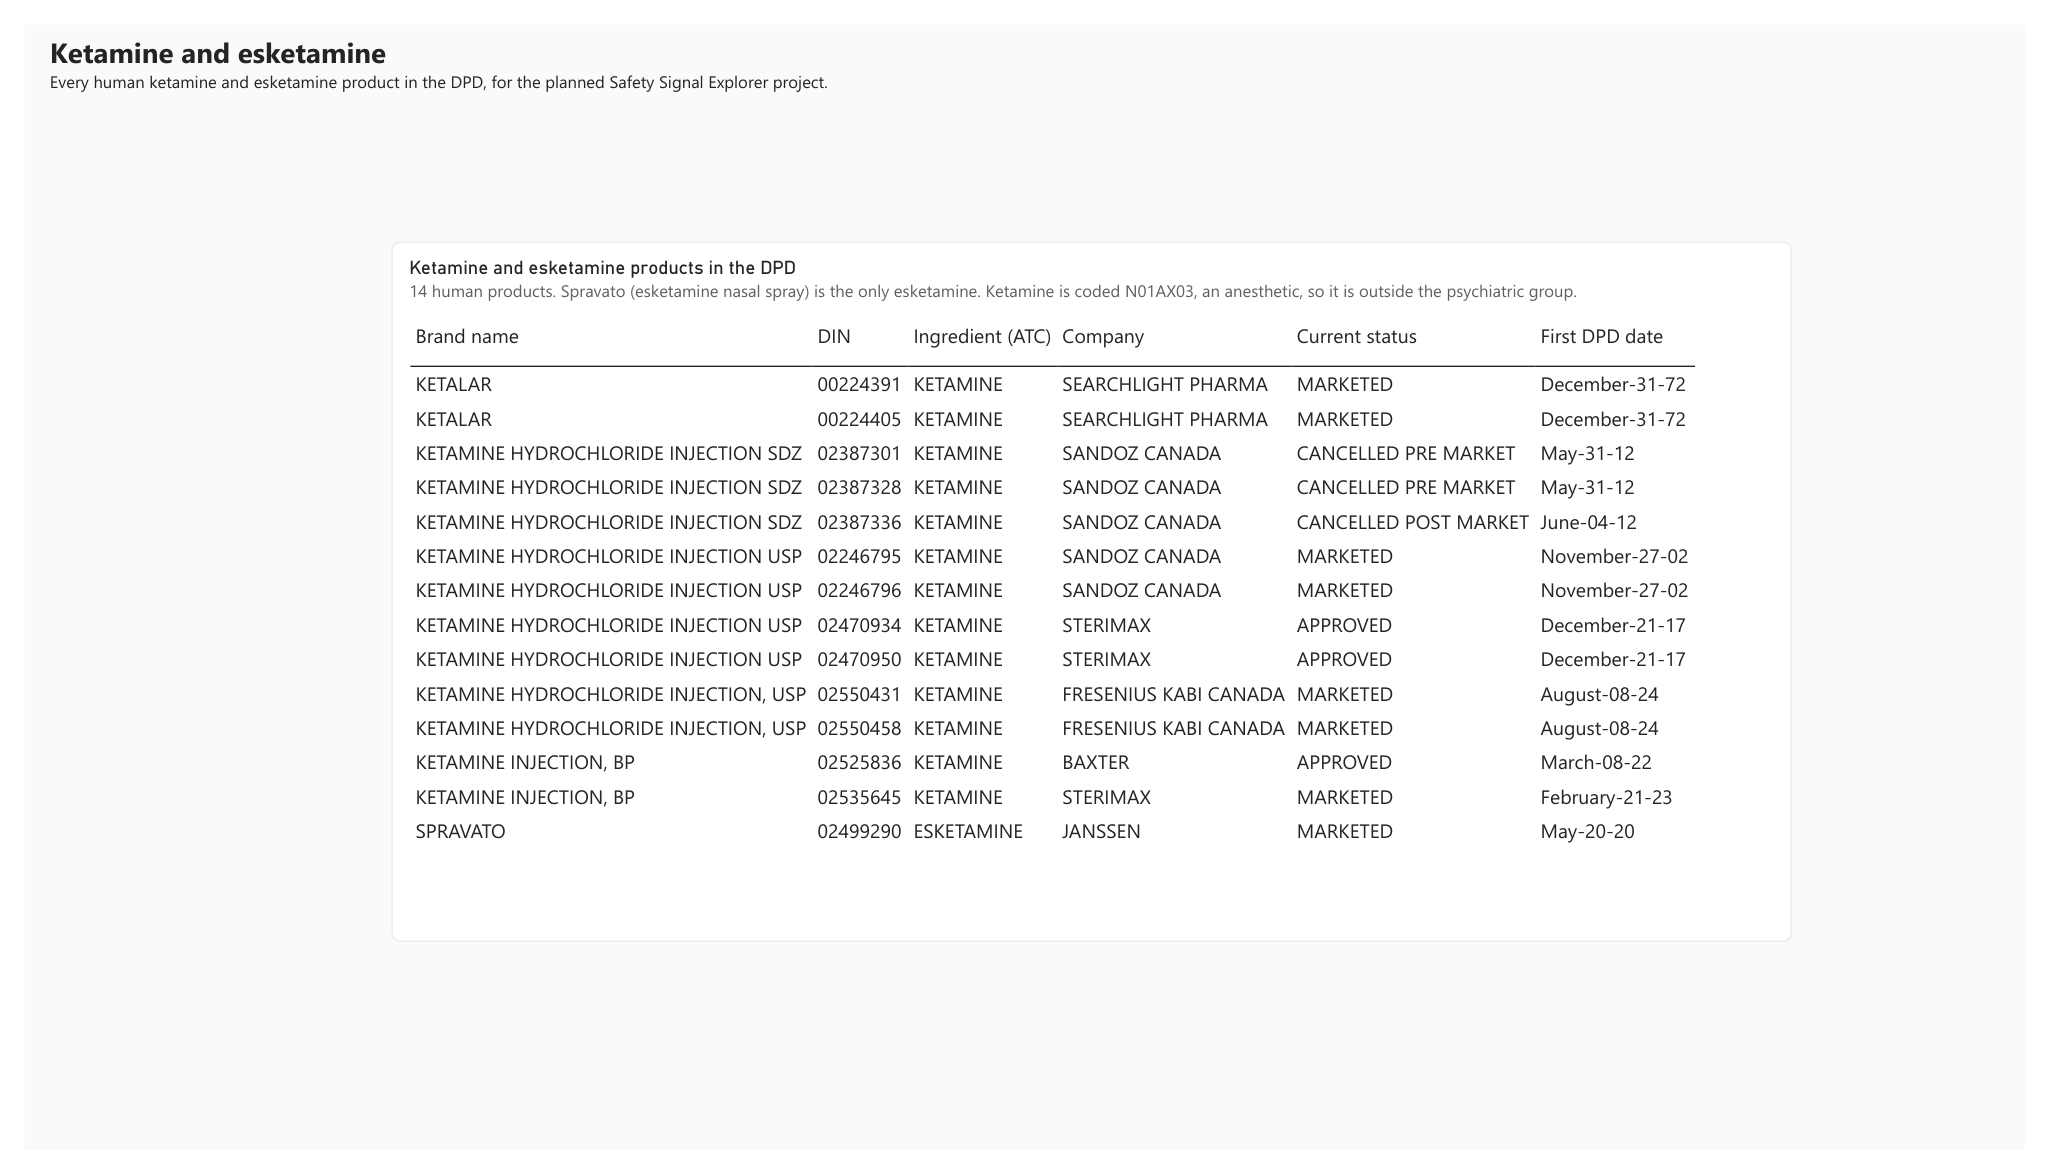

The page's visual inventory and layout, read from the dashboard file:
{"tool":"powerbi","page":{"name":"Ketamine and Esketamine","canvas":[1920,1080],"ordinal":3},"visuals":[{"type":"textbox","box":[24,8,1872,72],"z":0},{"type":"tableEx","title":"Ketamine and esketamine products in the DPD","fields":{"Values":["ketamine_products.brand_name","ketamine_products.din","ketamine_products.atc_name","ketamine_products.company_group","ketamine_products.current_status","ketamine_products.first_date"]},"box":[352,208,1344,672],"z":1}]}

Visuals, with their boxes in screenshot pixels (x1, y1, x2, y2), scaled from the page's 1920x1080 canvas onto the 2050x1175 screenshot:
textbox: x1=26, y1=9, x2=2024, y2=87
"Ketamine and esketamine products in the DPD" tableEx: x1=376, y1=226, x2=1811, y2=957
